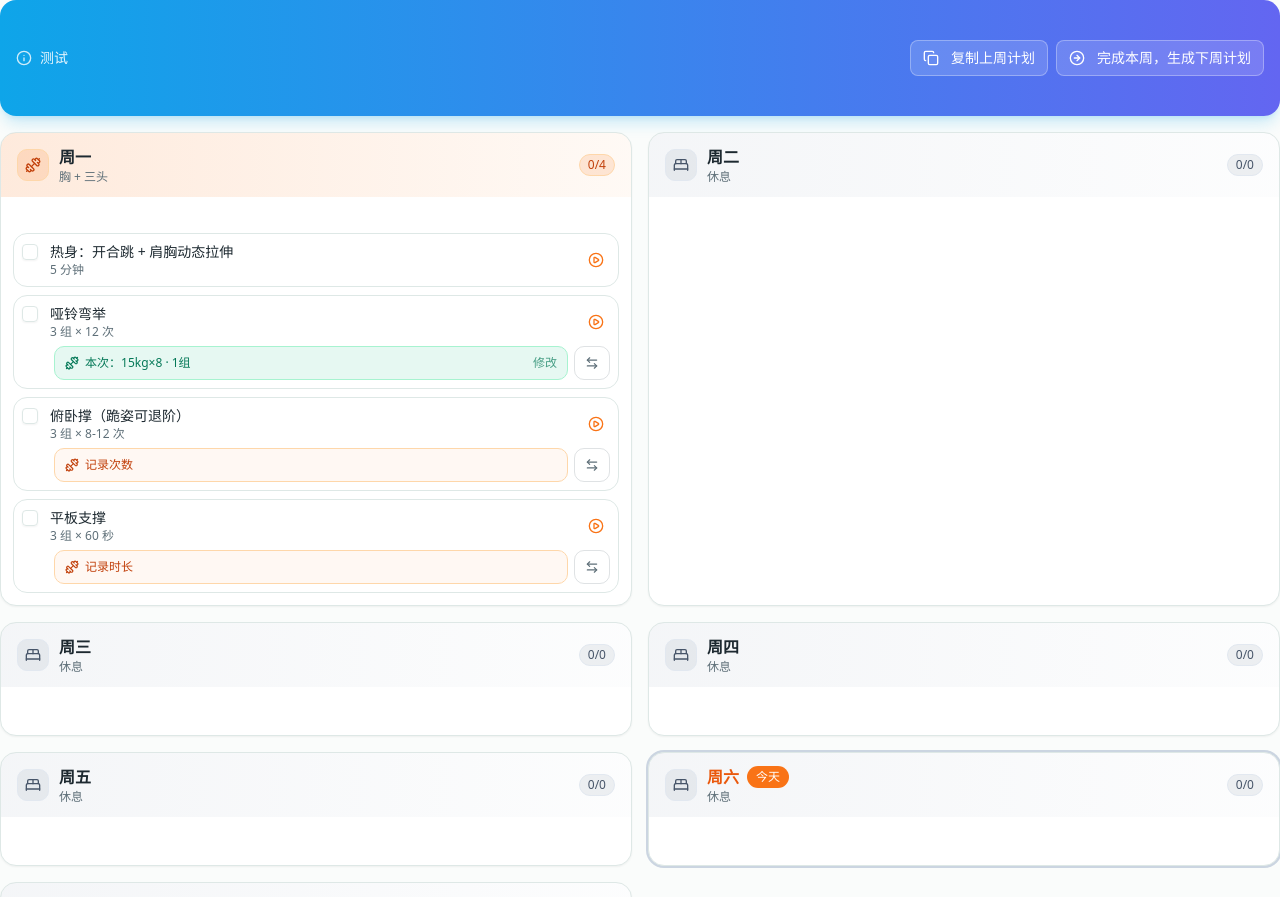
Test: 清除本次记录 › 两段确认：第一次点击进入确认态不删除，第二次才删记录并关闭弹窗
Click the button "本次：15kg×8 · 1组 修改".
click(103, 362)  # box [54,346,568,380]
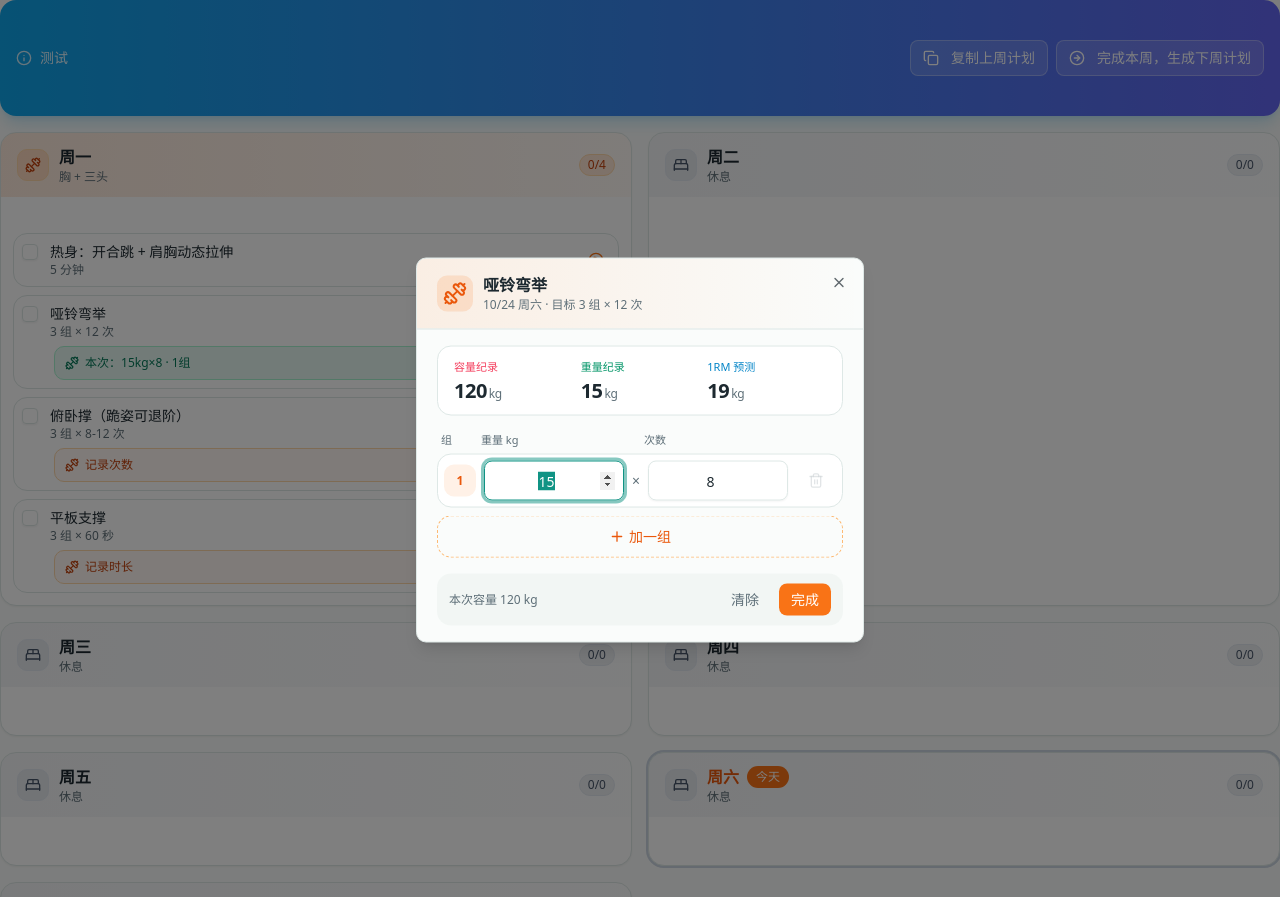
Click the button "清除".
click(745, 600)  # box [719,584,771,616]
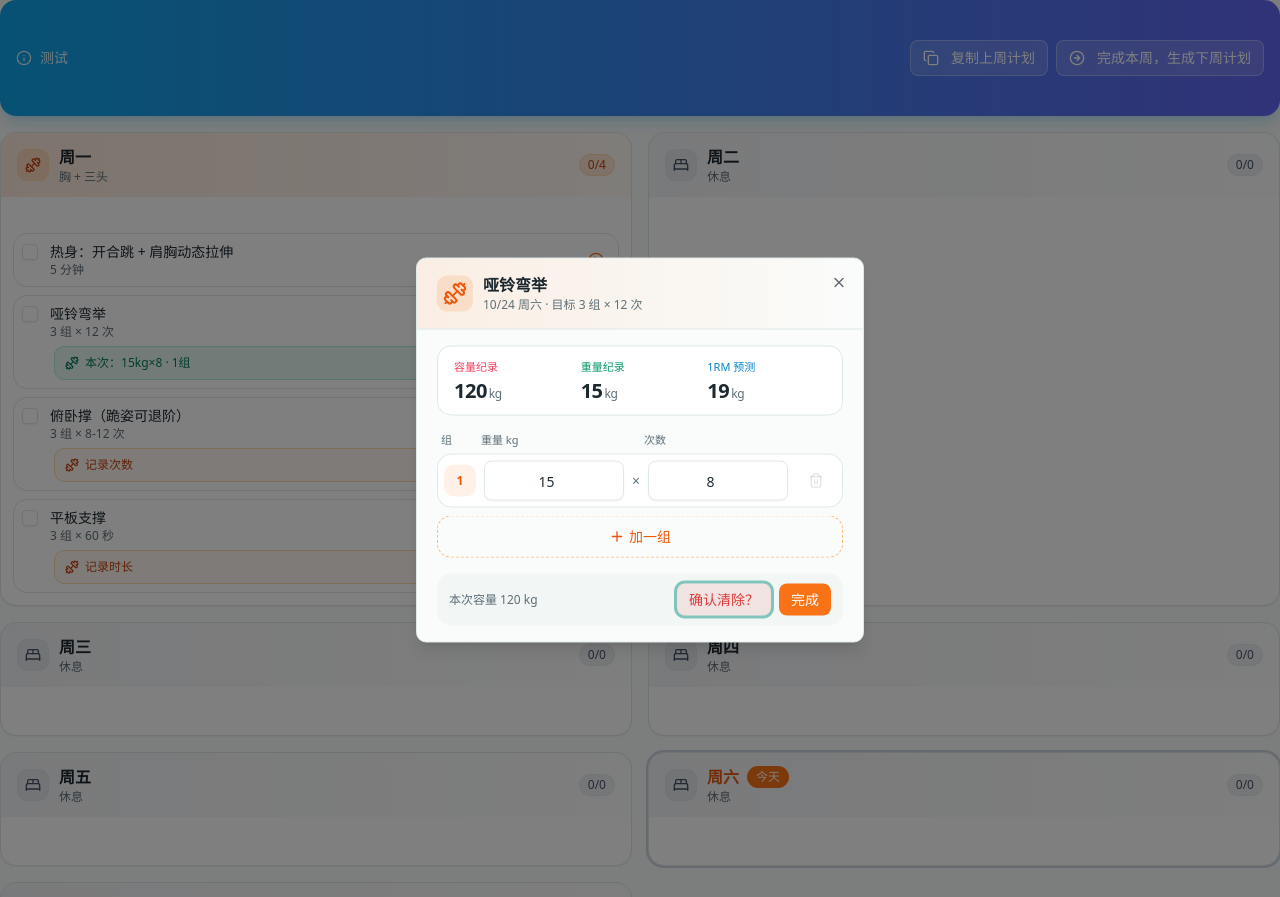
Check: the dialog is shown, box [416,258,864,642]
Check: the button "确认清除？" is shown
Click the button "确认清除？".
click(724, 600)  # box [677,584,771,616]
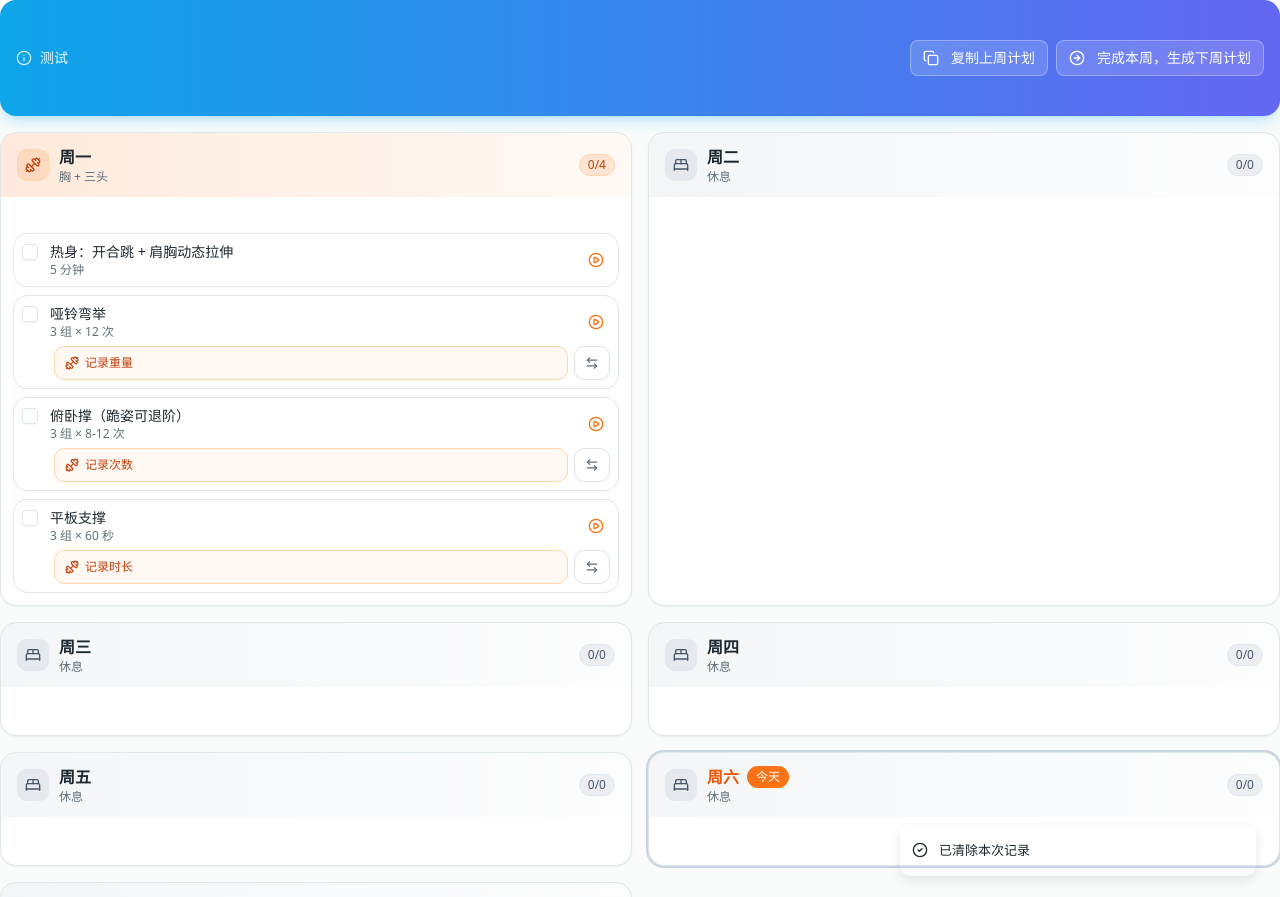
Check: the dialog is gone
Check: the button "记录重量" is shown, box [54,346,568,380]
